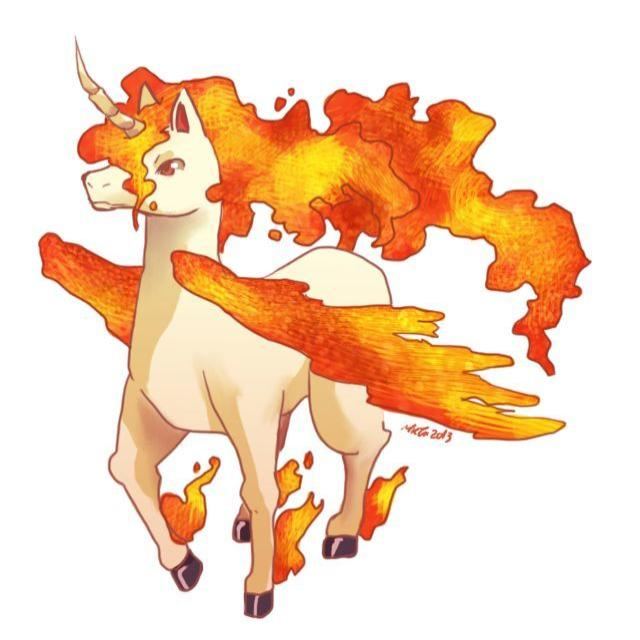Rapidash: (65, 29, 455, 588)
